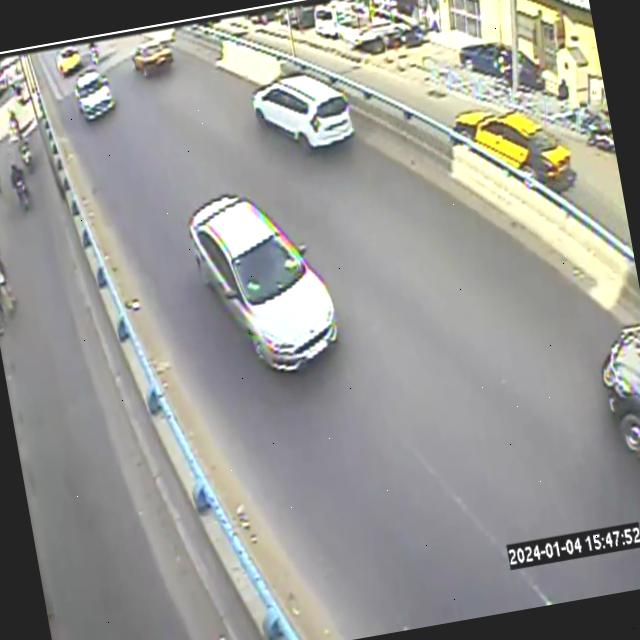car: (188, 193, 337, 372), (216, 41, 354, 154), (602, 324, 640, 458), (602, 326, 640, 458), (458, 42, 511, 84), (459, 42, 511, 84), (459, 43, 511, 84), (517, 51, 544, 89), (518, 51, 544, 89)
